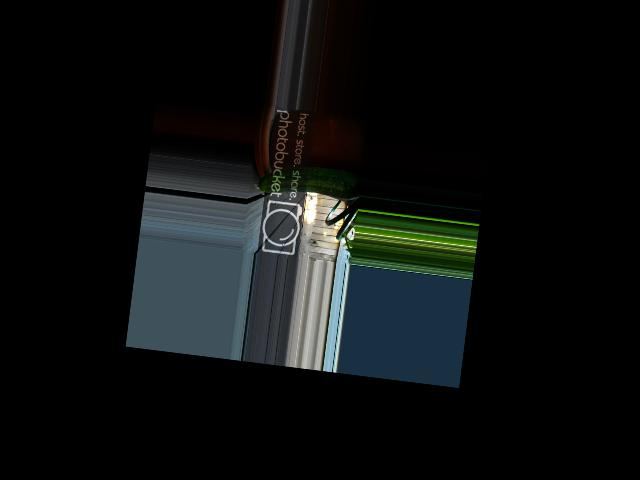cucumber: (252, 159, 361, 204)
